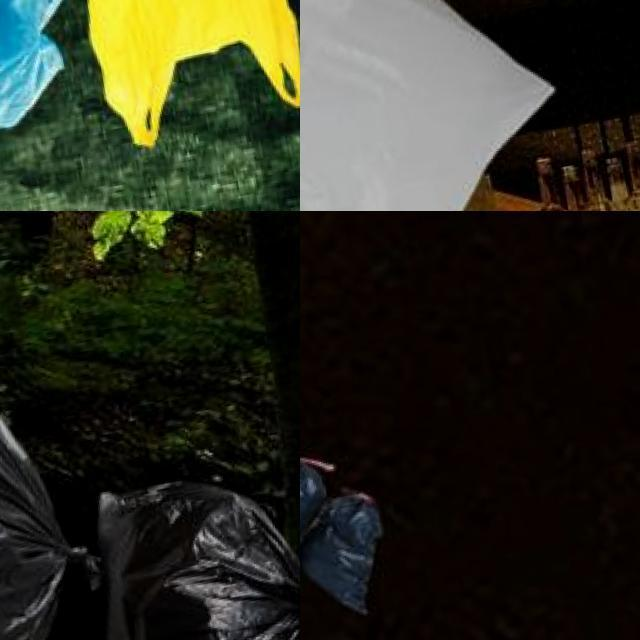waste: (300, 0, 566, 211), (80, 444, 300, 640), (56, 0, 300, 151), (0, 355, 103, 640), (300, 485, 399, 621), (300, 444, 331, 566)
